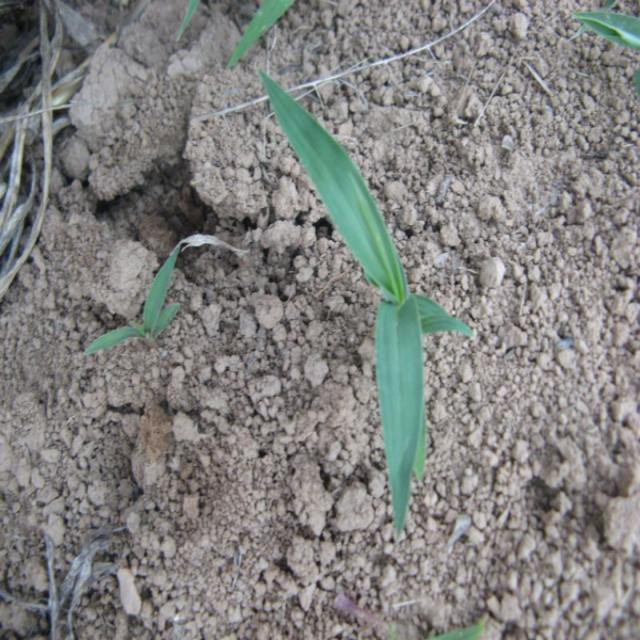bg: (259, 66, 473, 530)
